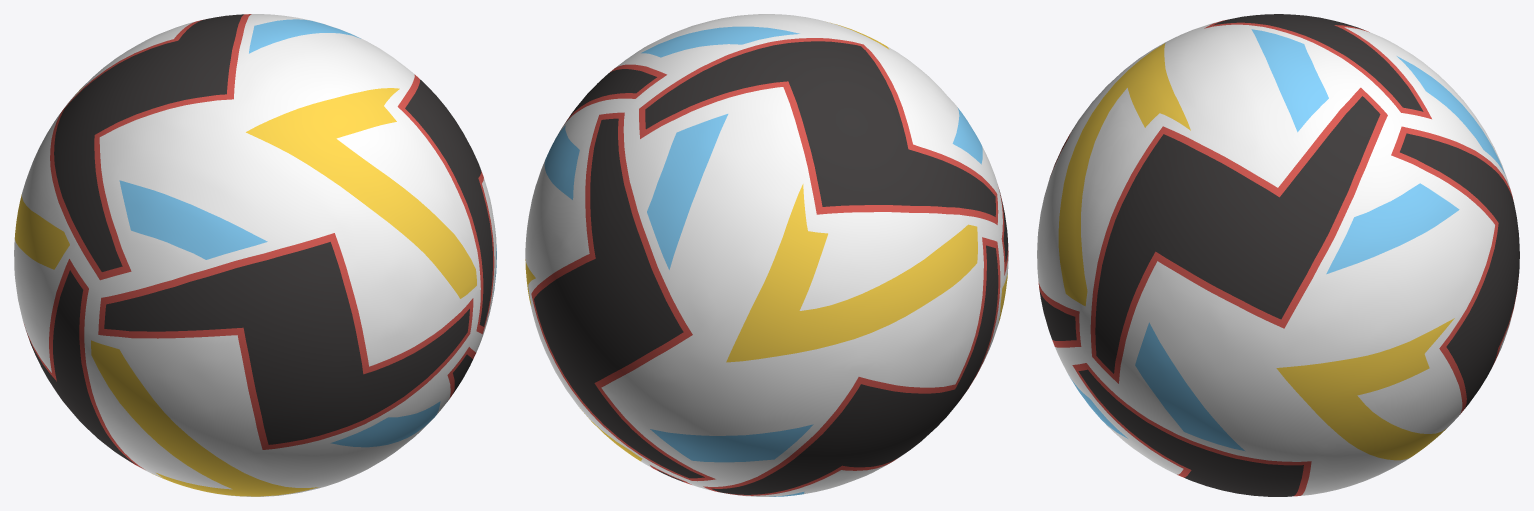
Rendered from balon.glb.
The picture shows the model from 3 angles, left to right: view 1: azimuth 30°, elevation 25°; view 2: azimuth 150°, elevation 25°; view 3: azimuth 270°, elevation 25°; orthographic projection.
Visible parts, largest first — view 1: LaLiga_Ball_ID; view 2: LaLiga_Ball_ID; view 3: LaLiga_Ball_ID.
Boxes of the visible parts, box(x1,y1,x2,y2) form: LaLiga_Ball_ID: box(14, 14, 496, 496); LaLiga_Ball_ID: box(525, 14, 1008, 496); LaLiga_Ball_ID: box(1037, 14, 1519, 496).
Size of the model in its own units: 29.98 by 29.99 by 29.98.
